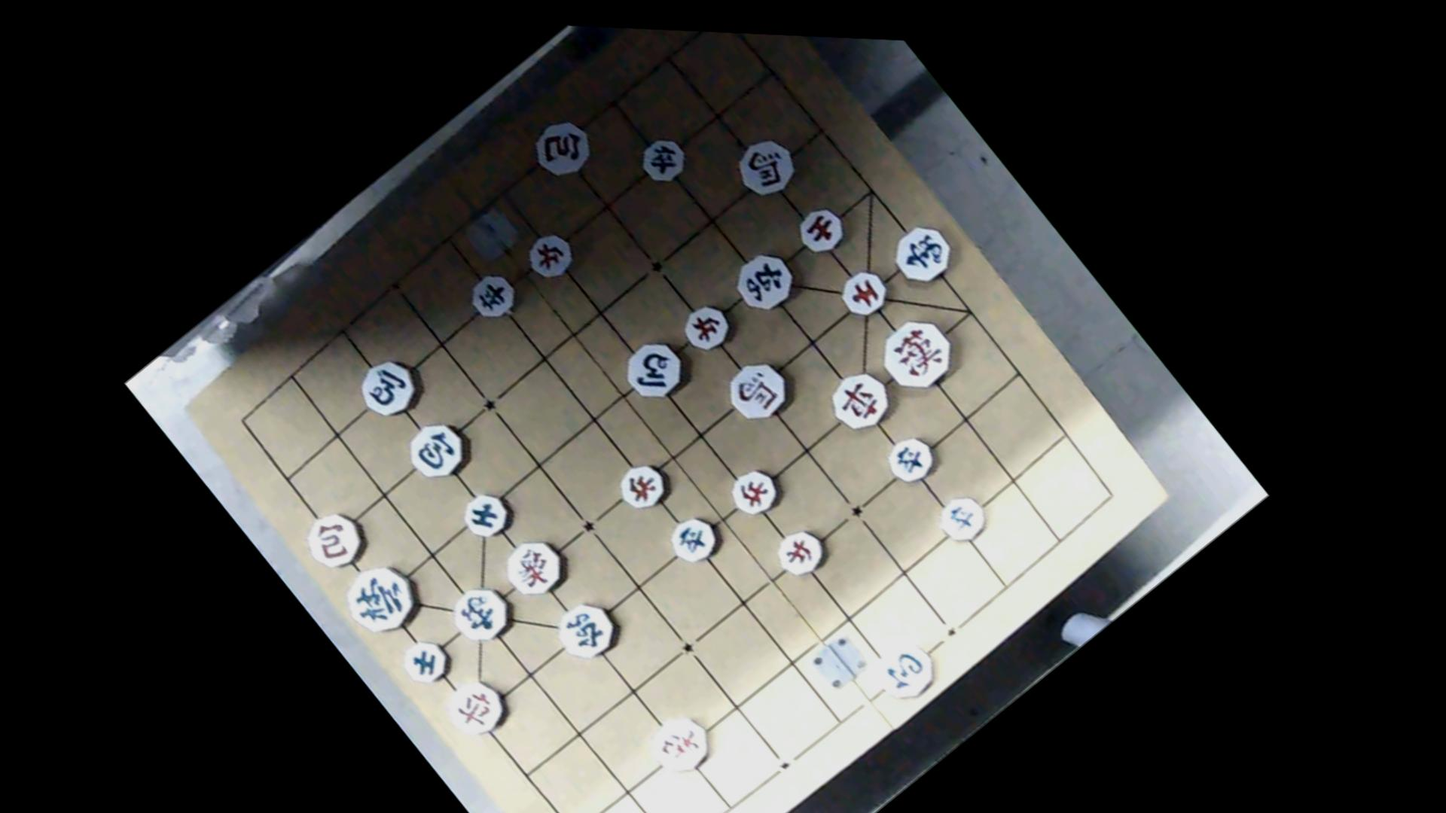cha_green: (544, 589, 626, 669), (724, 241, 804, 319)
cha_red: (817, 360, 901, 442), (438, 669, 516, 744)
jol_green: (459, 262, 527, 329), (658, 507, 724, 571), (629, 128, 694, 192), (877, 428, 943, 490), (931, 489, 993, 551)
jol_red: (607, 451, 678, 520), (765, 519, 833, 586), (718, 458, 786, 525), (517, 221, 584, 285), (675, 298, 735, 356)
ma_green: (612, 330, 696, 411), (346, 349, 428, 428)
ma_red: (715, 352, 798, 432), (723, 126, 805, 206)
po_green: (396, 410, 477, 490), (866, 629, 946, 708)
po_red: (521, 108, 604, 188), (295, 503, 372, 577)
sa_green: (451, 482, 519, 547), (393, 630, 458, 694)
sa_red: (786, 198, 855, 265), (832, 263, 895, 324)
sang_green: (436, 574, 520, 656), (882, 218, 960, 294)
sang_red: (494, 528, 575, 606), (639, 705, 718, 784)
wang_green: (331, 550, 430, 647)
wang_red: (869, 306, 967, 401)
